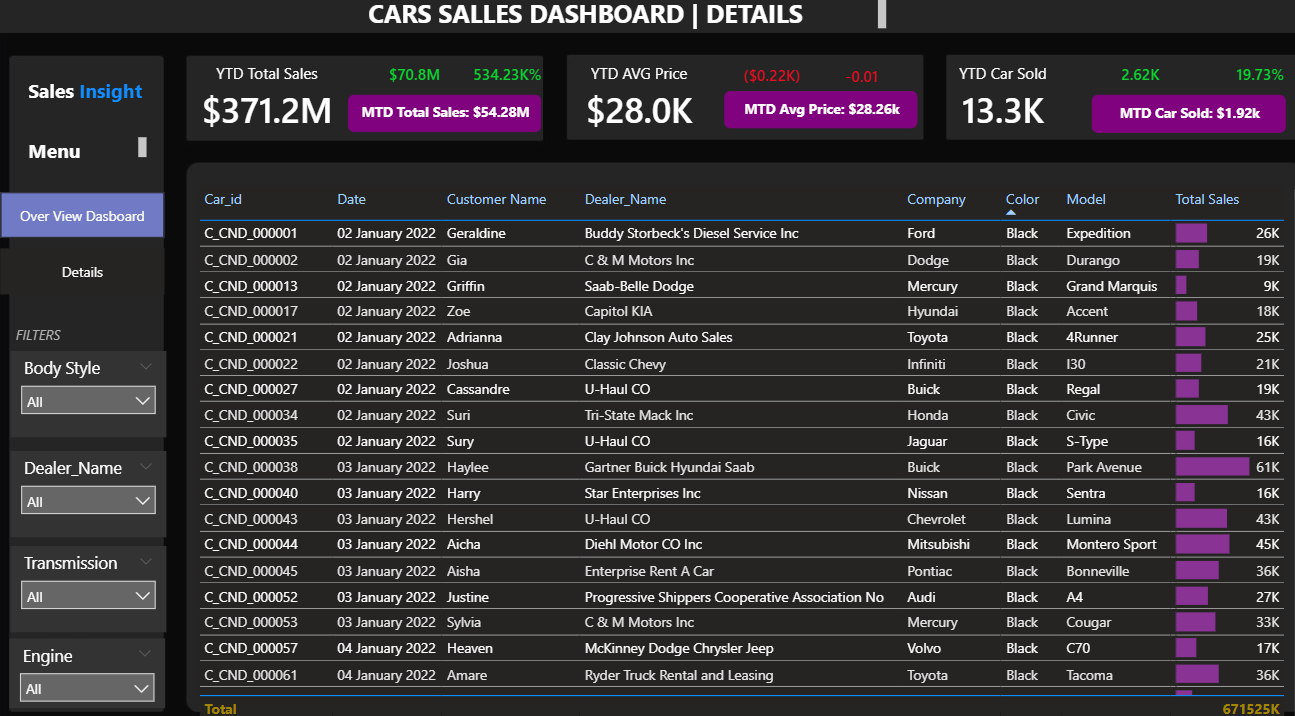

Layout of this report page (visuals, bound fields, positions):
{"tool":"powerbi","page":{"name":"Details","canvas":[1280,720],"ordinal":1},"visuals":[{"type":"card","title":"YTD Total Sales","fields":{"Values":["All Measures.YTD sales"]},"box":[187.5,68.8,155,72.5],"z":0},{"type":"card","fields":{"Values":["All Measures.Sales Difference"]},"box":[359.5,68.2,95.2,27],"z":1000},{"type":"card","fields":{"Values":["All Measures.YOY Sales Growth"]},"box":[454.7,68.2,83.8,27],"z":2000},{"type":"card","fields":{"Values":["All Measures.MTD KPI"]},"box":[342.5,100,186.2,36.2],"z":3000},{"type":"card","title":"YTD AVG Price","fields":{"Values":["All Measures.YTD AVG Price"]},"box":[555,68.8,137.5,72.5],"z":4000},{"type":"card","fields":{"Values":["All Measures.Avg Price  Difference"]},"box":[703.8,68.8,95,26.2],"z":5000},{"type":"card","fields":{"Values":["All Measures.YOY Avg Price Growth"]},"box":[798.8,68.8,80,31.2],"z":6000},{"type":"card","fields":{"Values":["All Measures.MTD Avg KPI"]},"box":[705,96.2,186.2,36.2],"z":7000},{"type":"card","title":"YTD Car Sold","fields":{"Values":["All Measures.YTD Cars sold"]},"box":[906.2,68.8,137.5,72.5],"z":8000},{"type":"card","fields":{"Values":["All Measures.Car Sold diff"]},"box":[1060,68.6,94.3,27.1],"z":9000},{"type":"card","fields":{"Values":["All Measures.YOY Car sold Growth"]},"box":[1175.7,68.6,94.3,27.1],"z":10000},{"type":"card","fields":{"Values":["All Measures.MTD Car sold KPI"]},"box":[1060,100,187.1,37.1],"z":11000},{"type":"textbox","box":[357.1,0,510,41.4],"z":12000},{"type":"slicer","fields":{"Values":["car_data.Dealer_Name"]},"box":[17.1,444.3,150,82.9],"z":13000},{"type":"slicer","fields":{"Values":["car_data.Body Style"]},"box":[17.1,347.1,150,82.9],"z":14000},{"type":"slicer","fields":{"Values":["car_data.Transmission"]},"box":[17.1,535.7,150,82.9],"z":15000},{"type":"slicer","fields":{"Values":["car_data.Engine"]},"box":[15.7,624.3,150,67.1],"z":16000},{"type":"textbox","box":[17.1,317.1,92.9,30],"z":17000},{"type":"tableEx","fields":{"Values":["car_data.Car_id","car_data.Date","car_data.Customer Name","car_data.Dealer_Name","car_data.Company","car_data.Color","car_data.Model","Sum(car_data.Price ($))"]},"box":[192.9,182.9,1077.1,525.7],"z":18000},{"type":"textbox","box":[28.6,78.6,137.1,40],"z":19000},{"type":"textbox","box":[28.6,135.7,124.3,31.4],"z":20000},{"type":"pageNavigator","box":[7.1,194.3,158.6,98.6],"z":21000}]}

Visuals, with their boxes on the page's 1280x720 design canvas (x1, y1, x2, y2). These are canvas units, not pixel positions in the 1295x716 screenshot, which may show the page scaled, cropped or inside an application window:
"YTD Total Sales" card: <region>188, 69, 342, 141</region>
card - All Measures.Sales Difference: <region>360, 68, 455, 95</region>
card - All Measures.YOY Sales Growth: <region>455, 68, 538, 95</region>
card - All Measures.MTD KPI: <region>342, 100, 529, 136</region>
"YTD AVG Price" card: <region>555, 69, 692, 141</region>
card - All Measures.Avg Price  Difference: <region>704, 69, 799, 95</region>
card - All Measures.YOY Avg Price Growth: <region>799, 69, 879, 100</region>
card - All Measures.MTD Avg KPI: <region>705, 96, 891, 132</region>
"YTD Car Sold" card: <region>906, 69, 1044, 141</region>
card - All Measures.Car Sold diff: <region>1060, 69, 1154, 96</region>
card - All Measures.YOY Car sold Growth: <region>1176, 69, 1270, 96</region>
card - All Measures.MTD Car sold KPI: <region>1060, 100, 1247, 137</region>
textbox: <region>357, 0, 867, 41</region>
slicer - car_data.Dealer_Name: <region>17, 444, 167, 527</region>
slicer - car_data.Body Style: <region>17, 347, 167, 430</region>
slicer - car_data.Transmission: <region>17, 536, 167, 619</region>
slicer - car_data.Engine: <region>16, 624, 166, 691</region>
textbox: <region>17, 317, 110, 347</region>
tableEx - car_data.Car_id x car_data.Date: <region>193, 183, 1270, 709</region>
textbox: <region>29, 79, 166, 119</region>
textbox: <region>29, 136, 153, 167</region>
pageNavigator: <region>7, 194, 166, 293</region>
